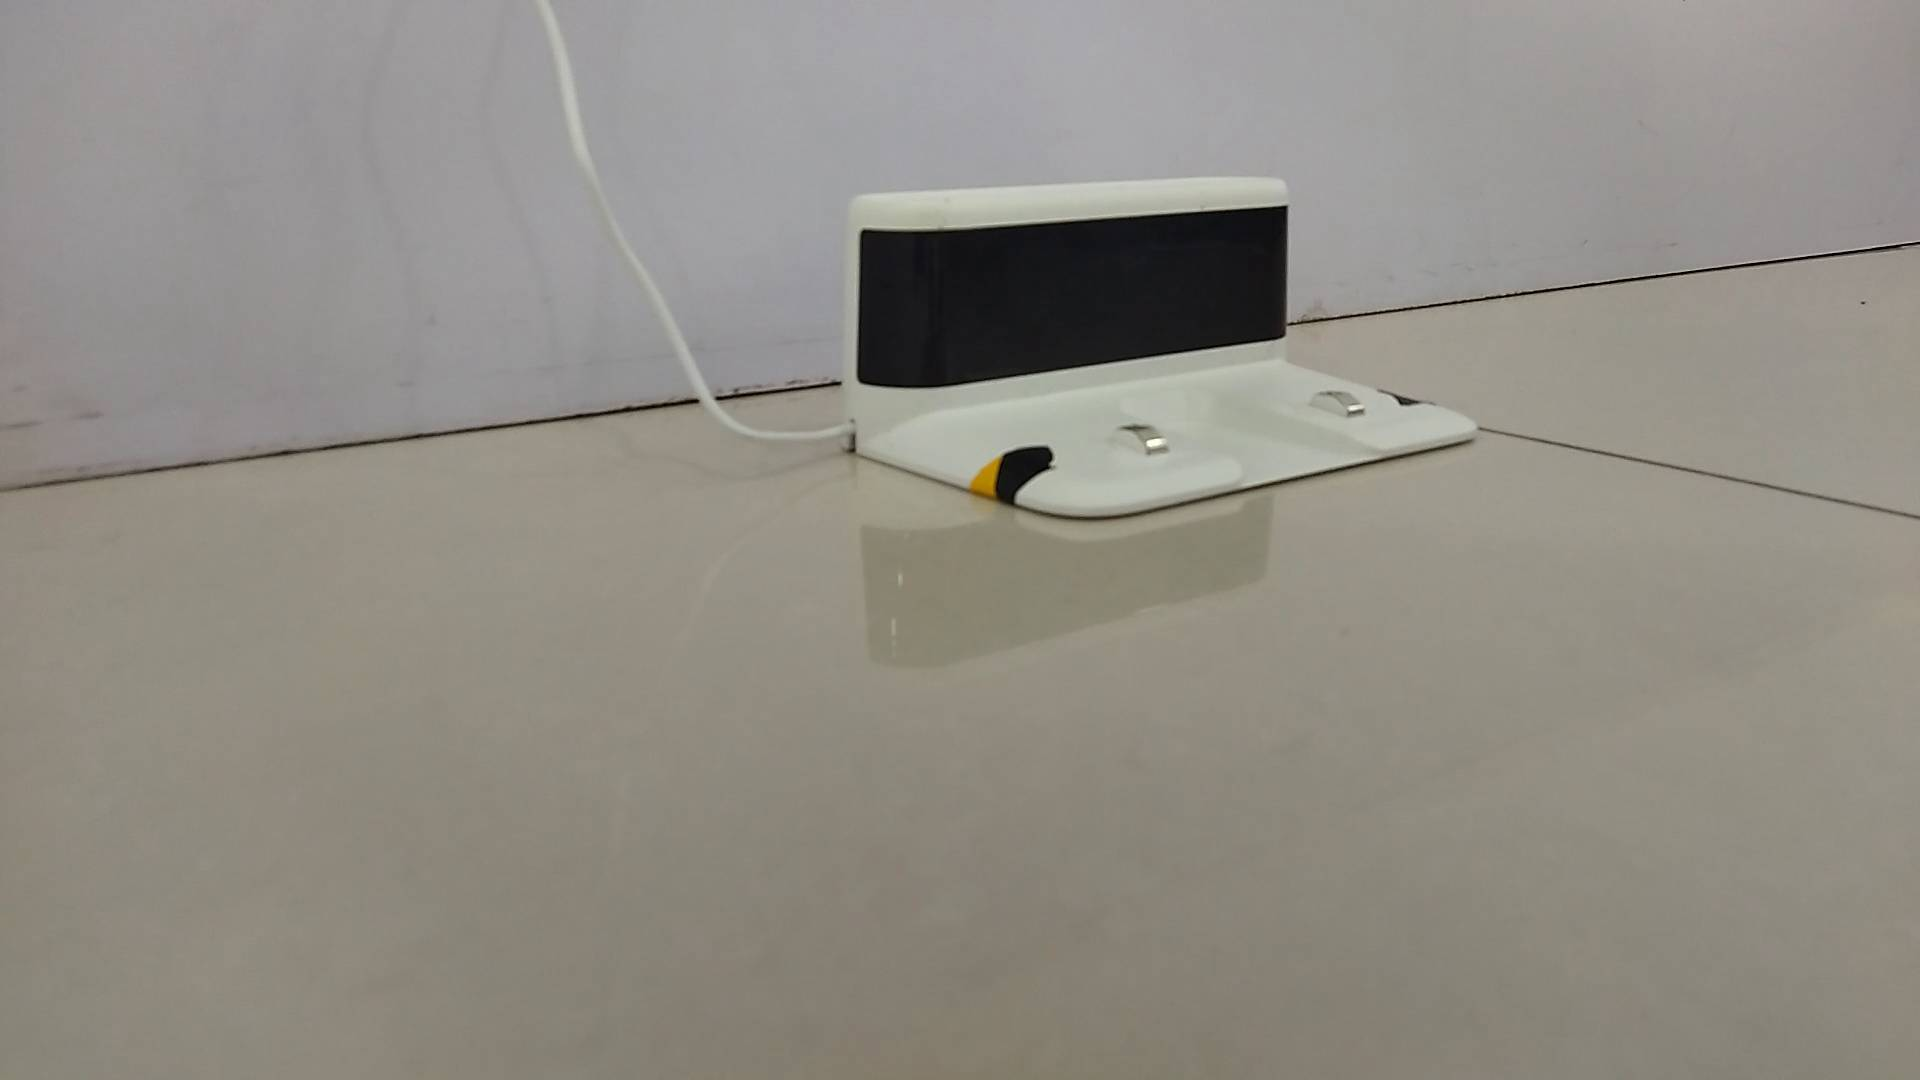recharge seat: (839, 173, 1484, 518)
